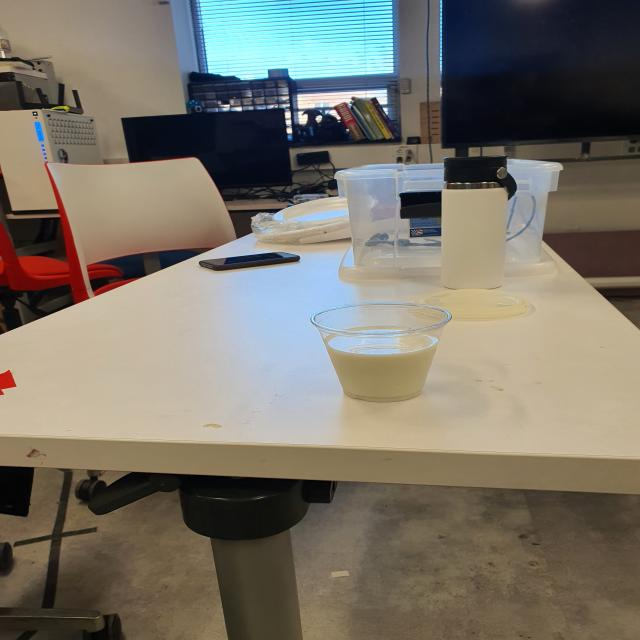Milk: (297, 296, 463, 418)
